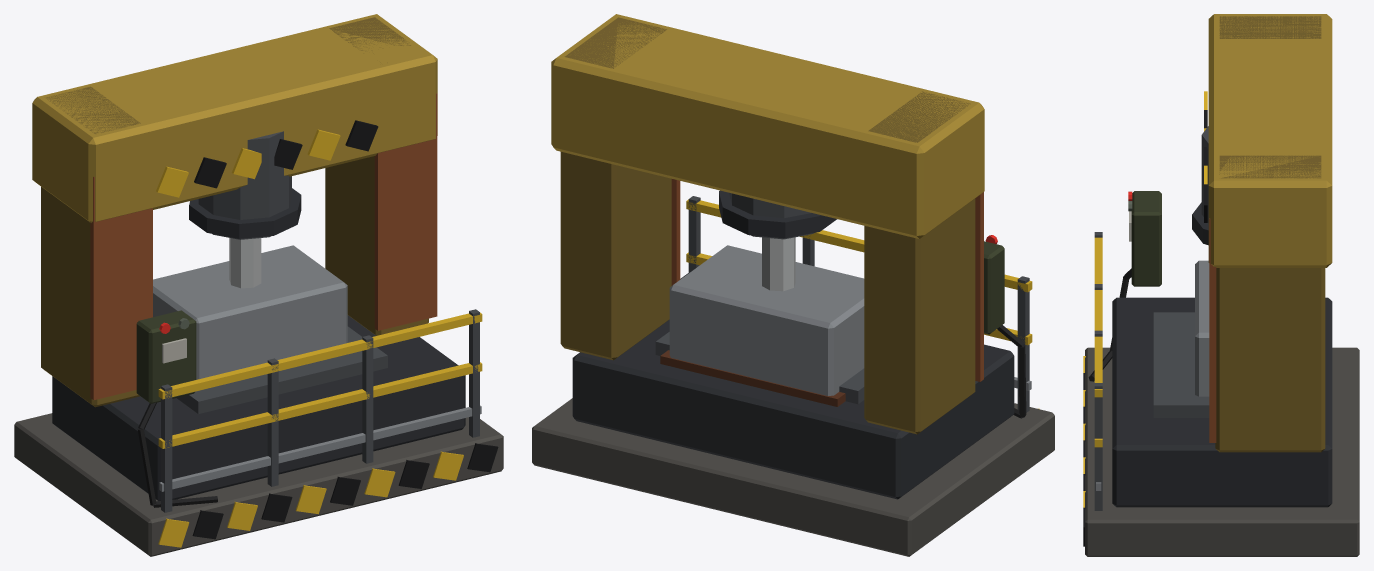
Rendered from lmk_factory_press.fbx.
3 renders of one model, left to right at view 1: azimuth 30°, elevation 25°; view 2: azimuth 150°, elevation 25°; view 3: azimuth 270°, elevation 25°, orthographic. The views are drawn at different scales.
Parts seen in each view (by area): view 1: lmk_factory_press; view 2: lmk_factory_press; view 3: lmk_factory_press.
Boxes of the visible parts, x1,y1,x2,y2 form: lmk_factory_press: (14, 14, 503, 556); lmk_factory_press: (532, 14, 1054, 556); lmk_factory_press: (1083, 14, 1359, 556).
Size of the model in its own units: 3 by 3 by 2.01.
